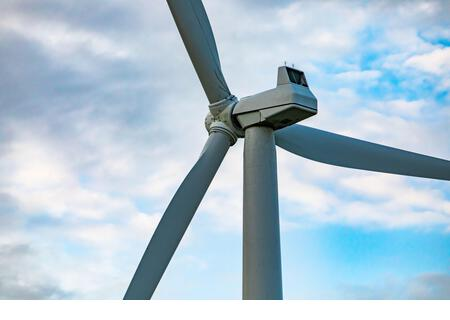working: (161, 14, 340, 218)
